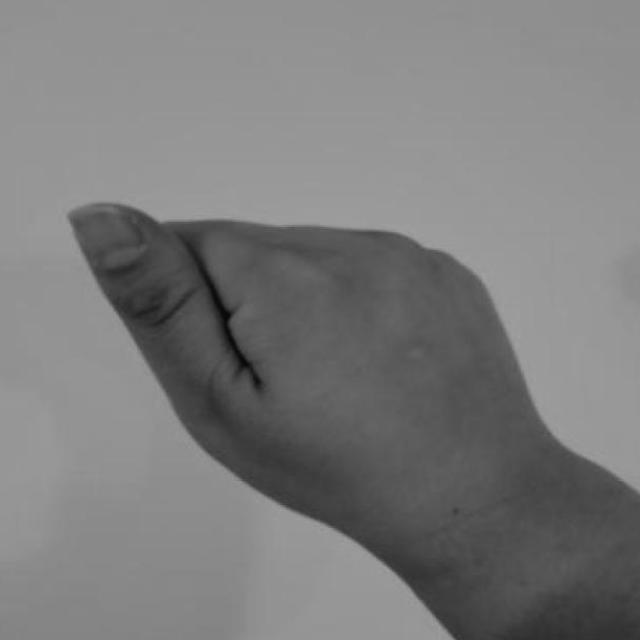A: (60, 174, 540, 612)
